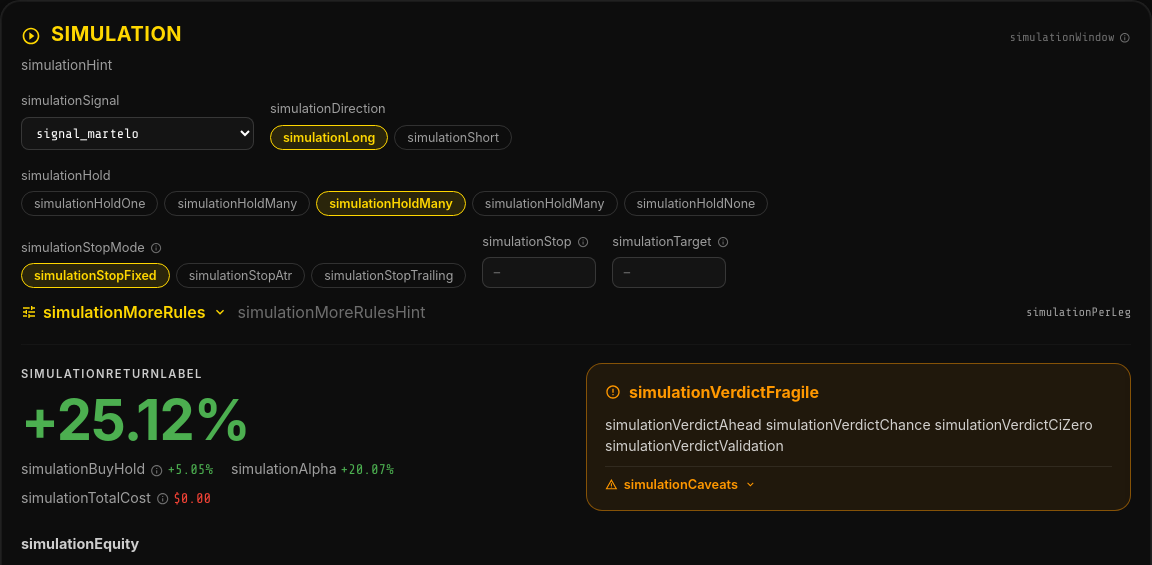
Test case: SimulationPanel › o que abre com um clique › deve mostrar as ressalvas agrupadas no veredito
The image size is (1152, 565).
Expected: the text "simulationWindowShort" is not shown
Click the button "simulationCaveats". click: (681, 485)
box: [605,475,757,494]
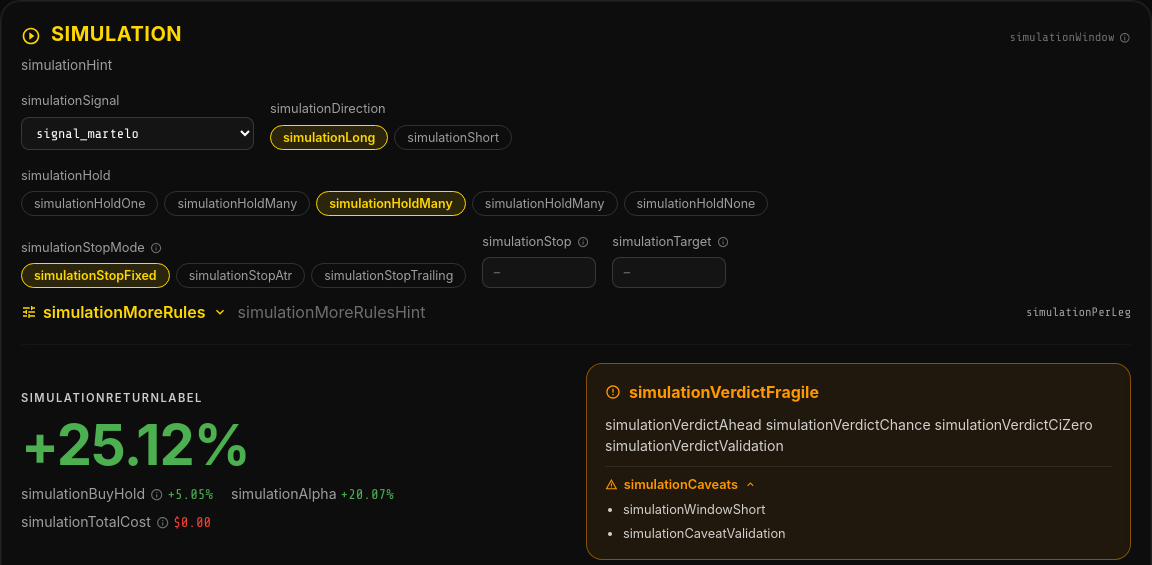
Result: the list item "simulationWindowShort" is shown at [623,502,766,517]
